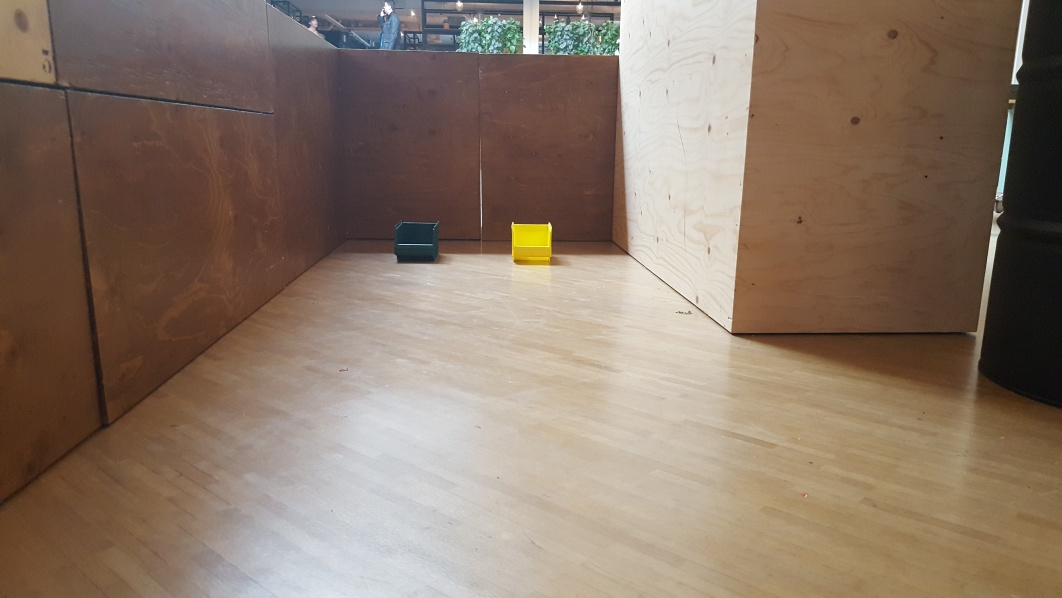tray: (390, 221, 443, 263), (506, 221, 557, 264)
